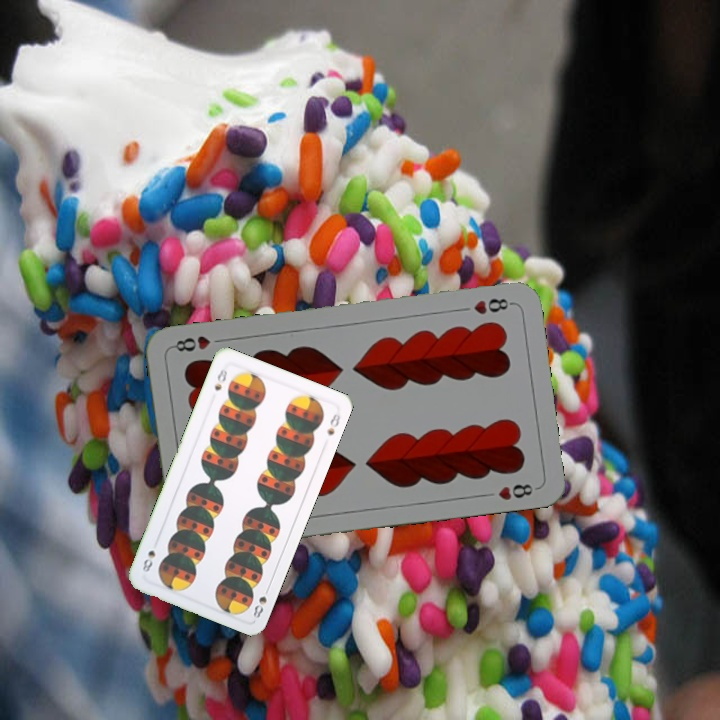H8: (469, 294, 515, 317)
S8: (249, 582, 272, 621), (210, 364, 230, 393)
